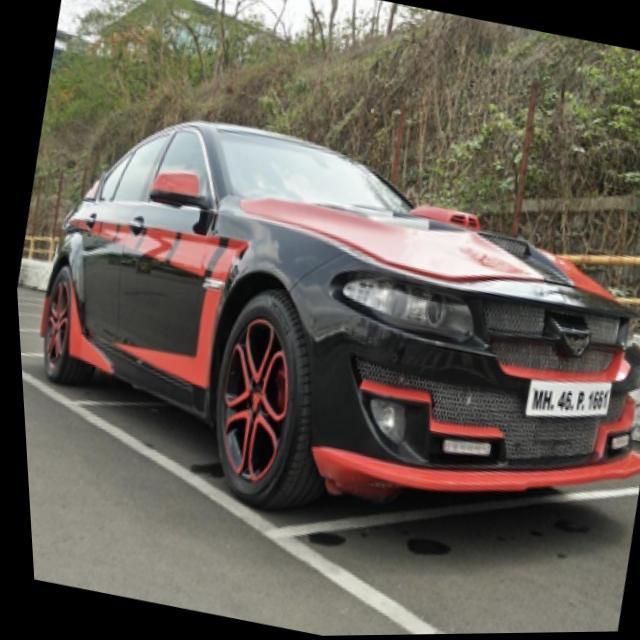license_plate: (520, 377, 607, 422)
